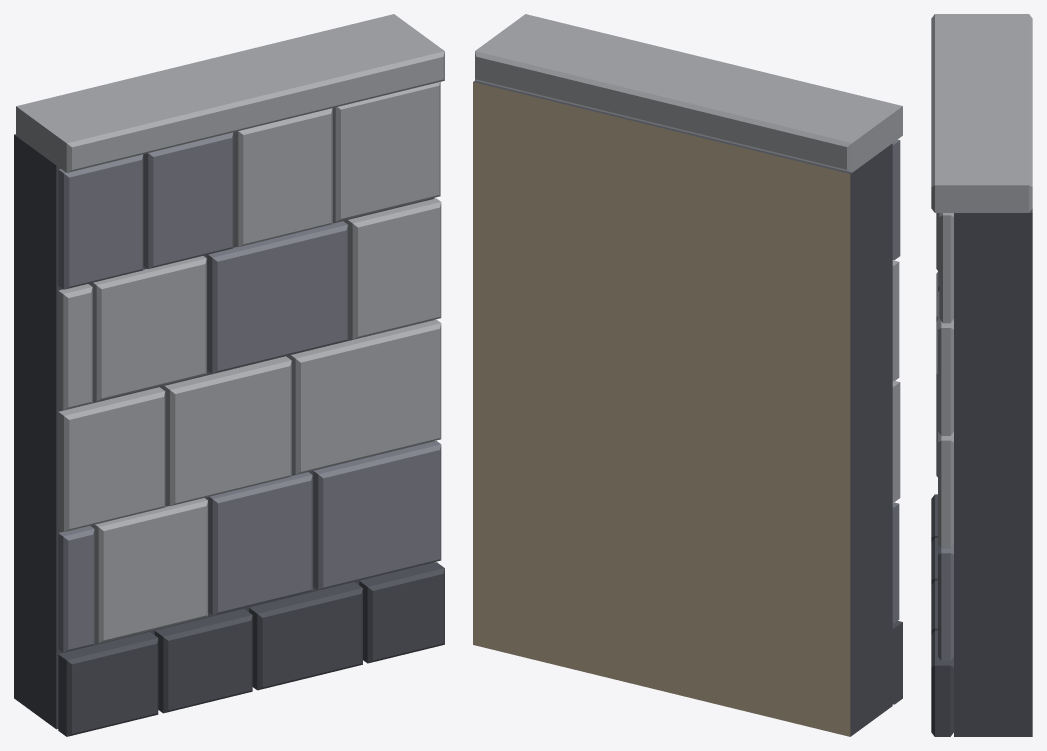
The model's file is WallStraight_01.glb.
The picture shows the model from 3 angles, left to right: view 1: azimuth 30°, elevation 25°; view 2: azimuth 150°, elevation 25°; view 3: azimuth 270°, elevation 25°; orthographic projection. The views are drawn at different scales.
Parts seen in each view (by area): view 1: WallStraight_01; view 2: WallStraight_01; view 3: WallStraight_01.
Part boxes in pixels (left/top/right/bottom): WallStraight_01: left=14, top=14, right=444, bottom=736; WallStraight_01: left=473, top=14, right=902, bottom=736; WallStraight_01: left=931, top=14, right=1032, bottom=736.
Bounding box in the file's own units: 8 × 12 × 2.
